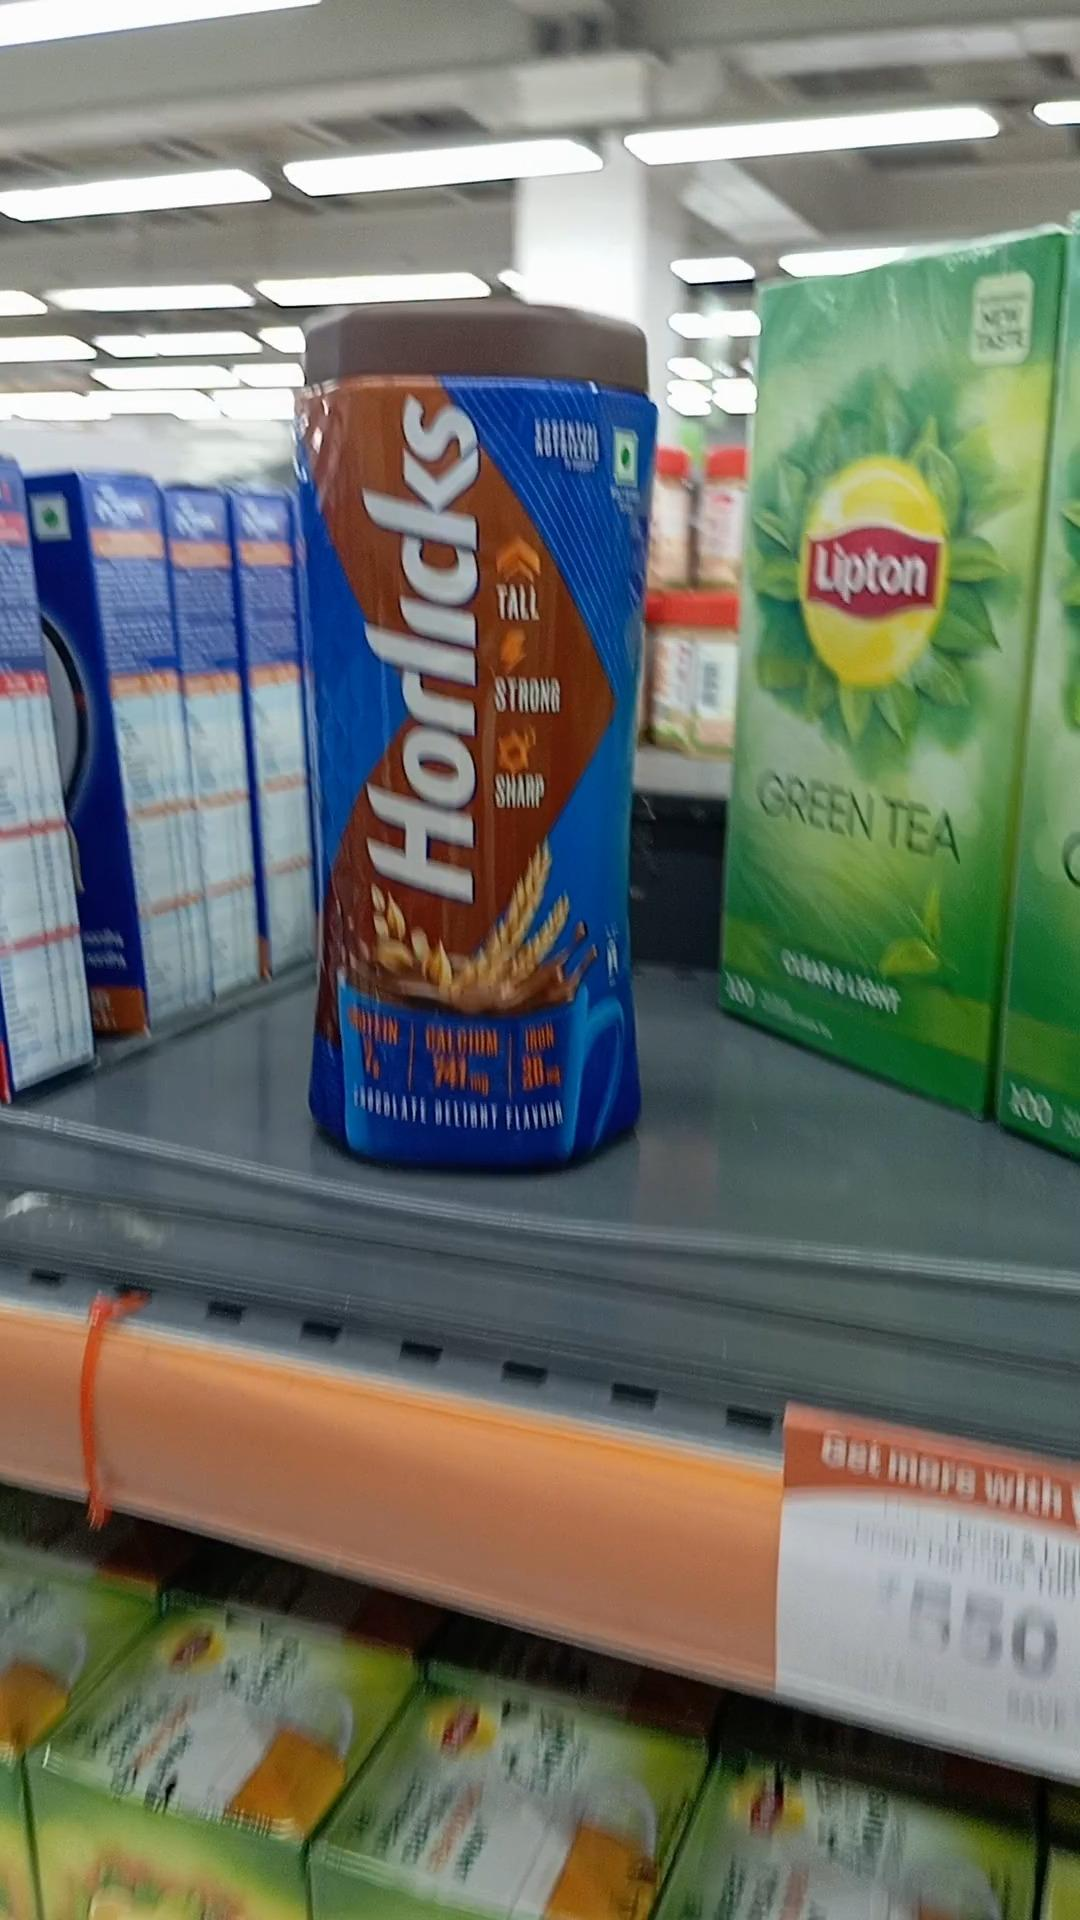HORLICK_CHOCOLATE_1_KG_JAR: (310, 302, 657, 1185)
